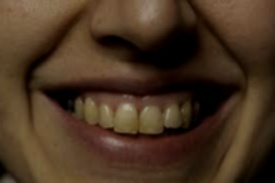Tooth Discoloration: (111, 117, 169, 134)
